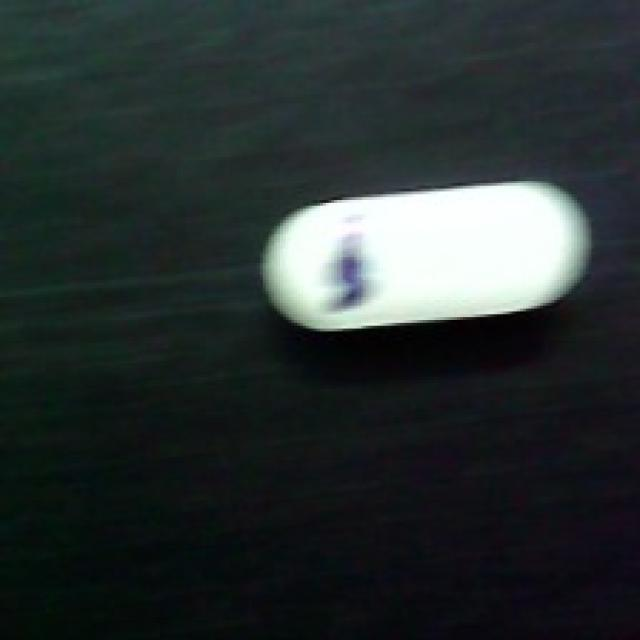defected: (254, 180, 594, 340)
